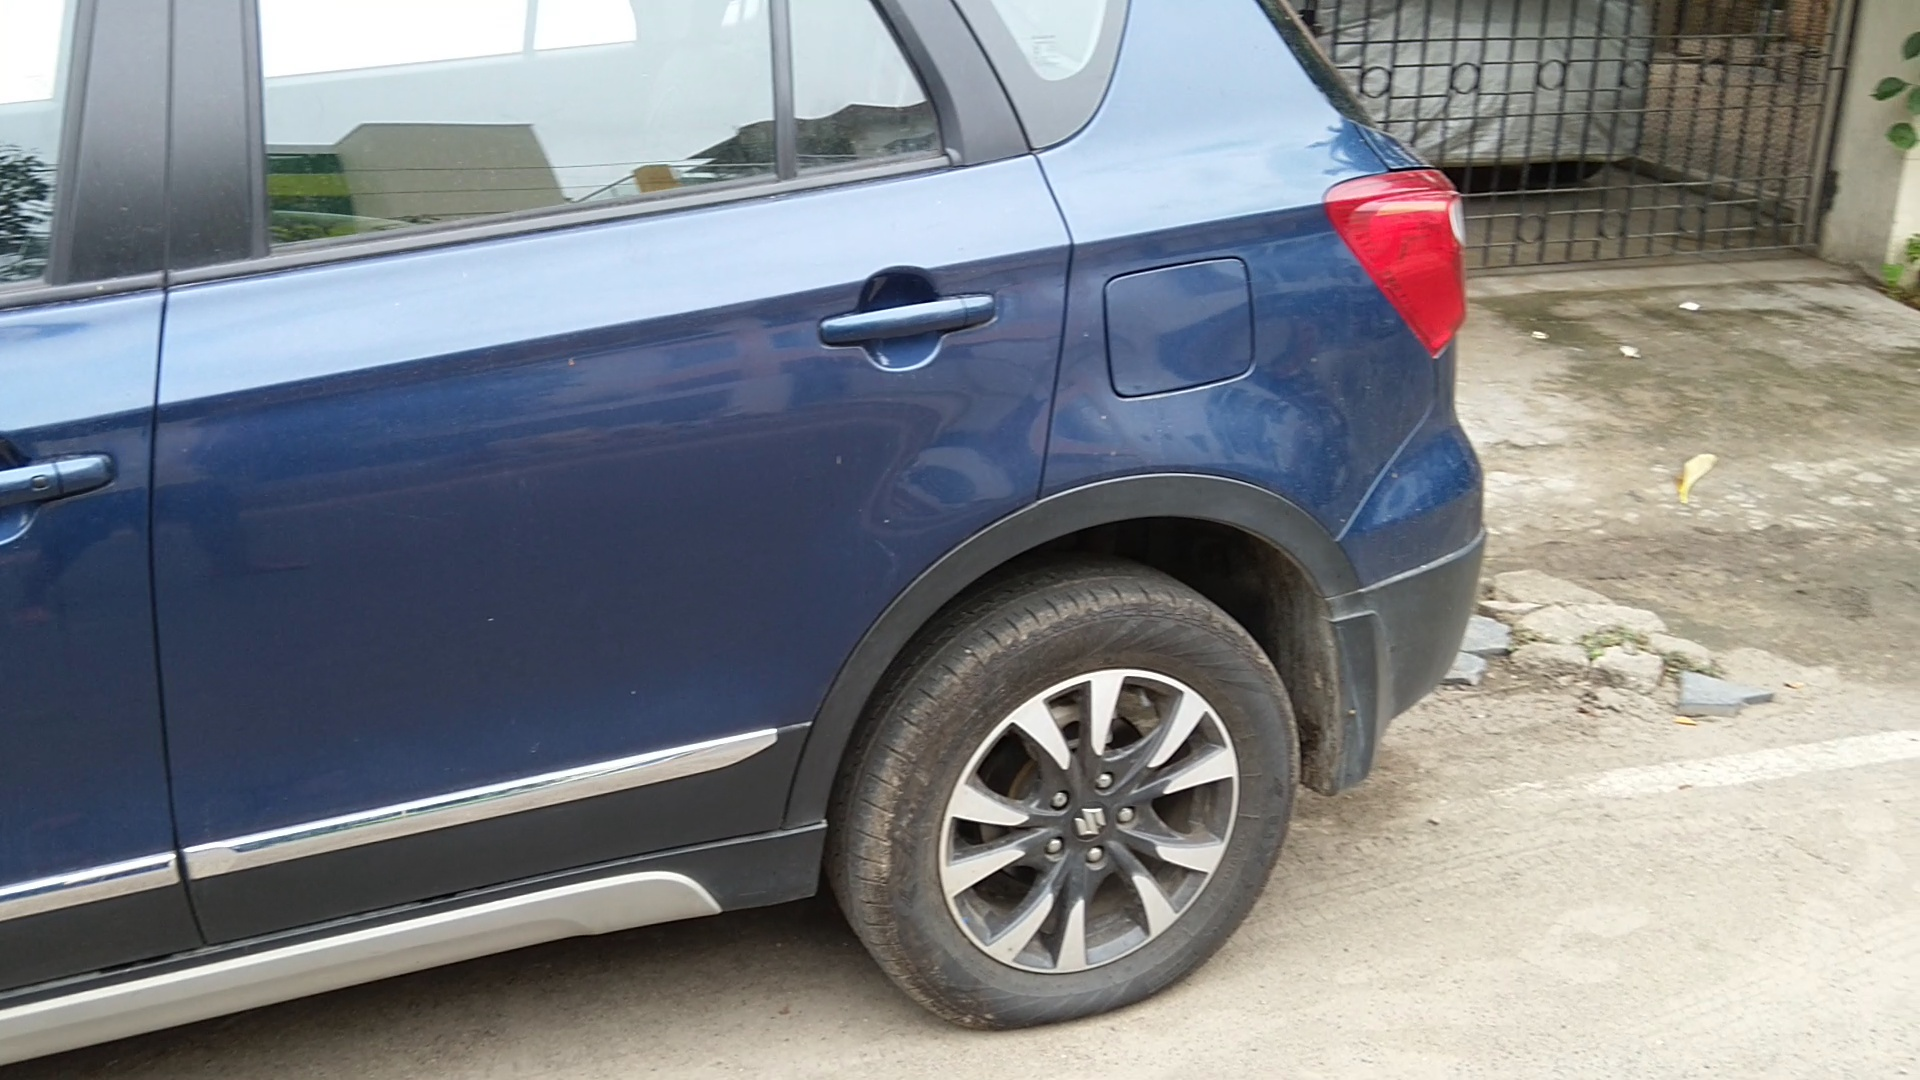alloy_wheel: (853, 575, 1300, 1036)
